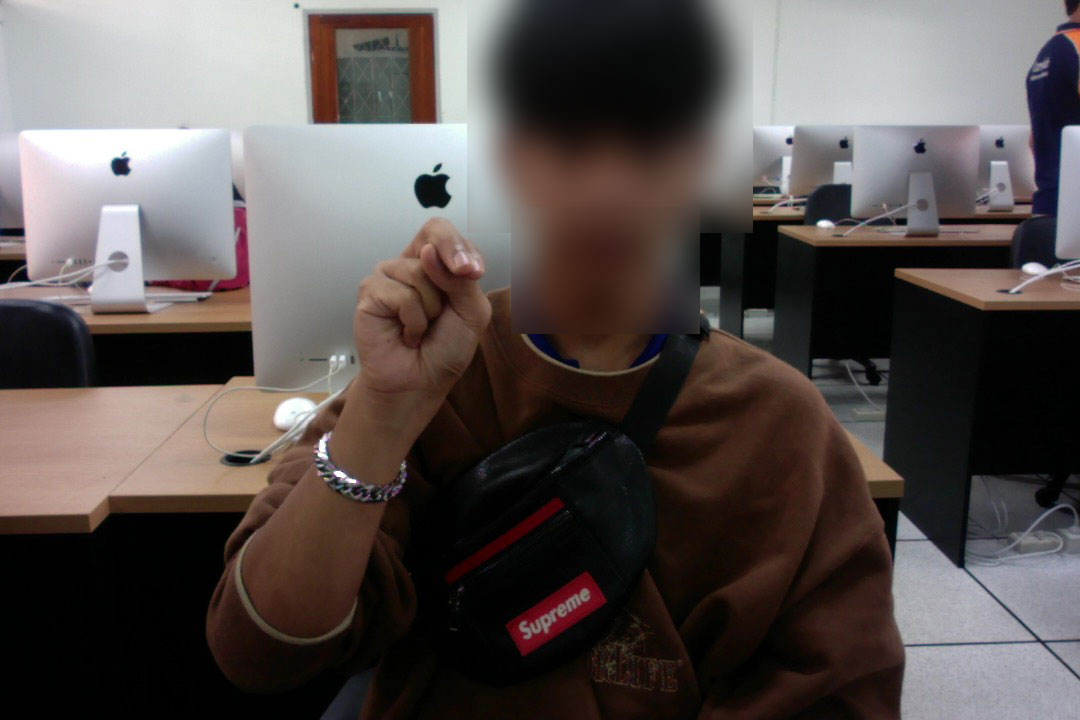tor: (348, 212, 492, 437)
